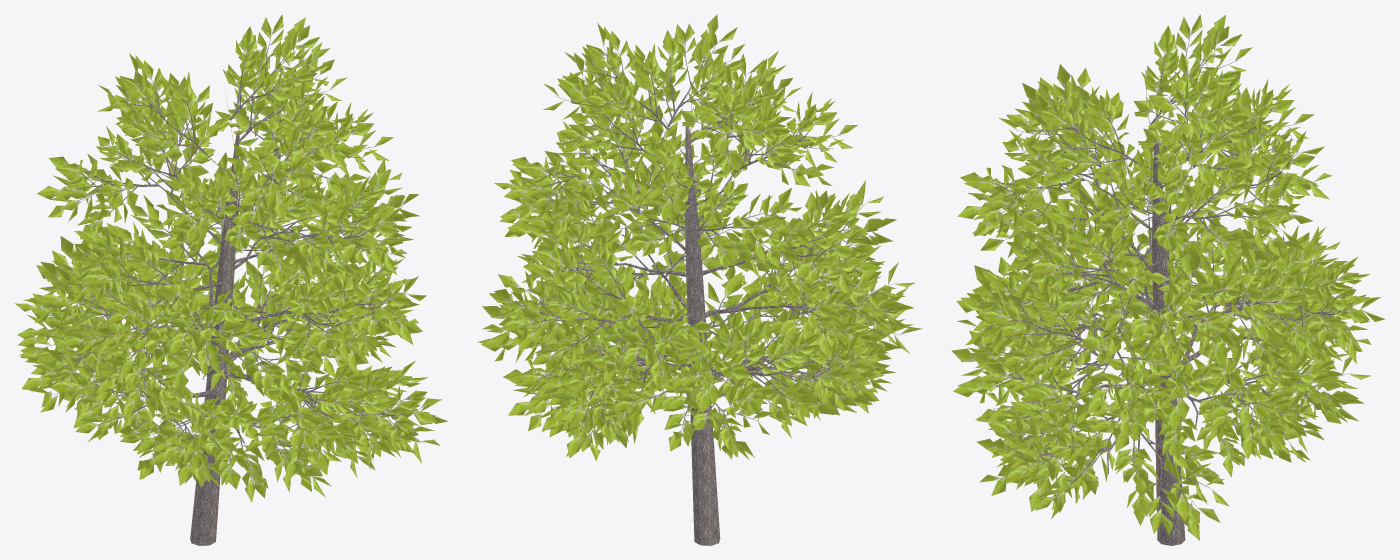
3 views of the same model, side by side, from view 1: azimuth 30°, elevation 25°; view 2: azimuth 150°, elevation 25°; view 3: azimuth 270°, elevation 25° (orthographic). The views are drawn at different scales.
Parts seen in each view (by area): view 1: Folhas01, Tronco; view 2: Folhas01, Tronco; view 3: Folhas01, Tronco.
Boxes of the visible parts, x1,y1,x2,y2 form: Folhas01: (15,14,447,502); Tronco: (32,33,429,545); Folhas01: (477,14,922,460); Tronco: (501,43,905,545); Folhas01: (952,14,1384,540); Tronco: (973,35,1364,545).
Bounding box in the file's own units: 6909 × 8566 × 6528.
Materials: 2 (2 with a texture image).
